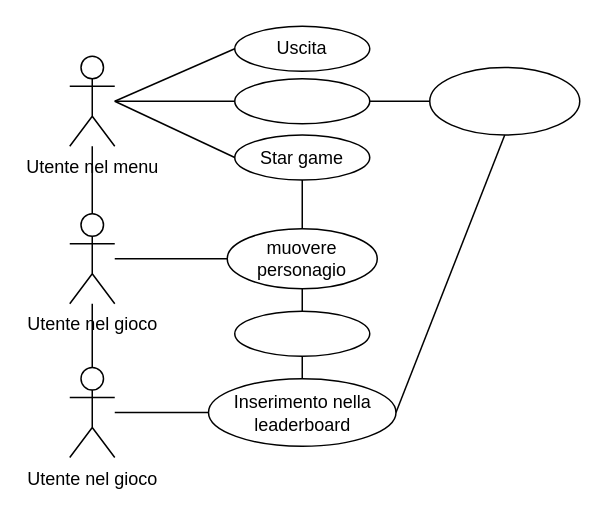
Some shapes in this 606 by 515 pixel diagram are drawn without their labels. The centre of each missing label's shape, as x and y in pixels:
Carica leaderboard: (x=504, y=100)
Collisione: (x=301, y=333)
Leaderboard: (x=301, y=100)
